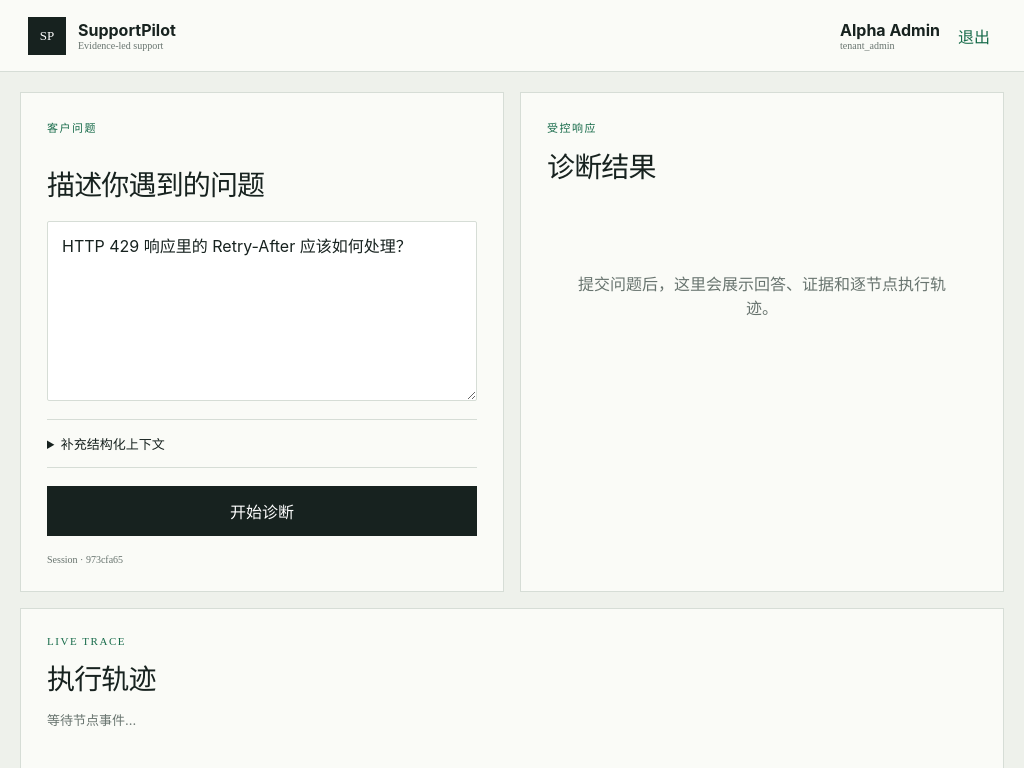
Scenario: SupportPilot console › renders live Agent progress and the final evidence-led answer
Expected: the text "Alpha Admin" is shown, [840,20,940,40]
What coordinates should you click on to do the following:
click the button "开始诊断"
I would click on:
 (262, 511)
Its box is [47,486,477,536].
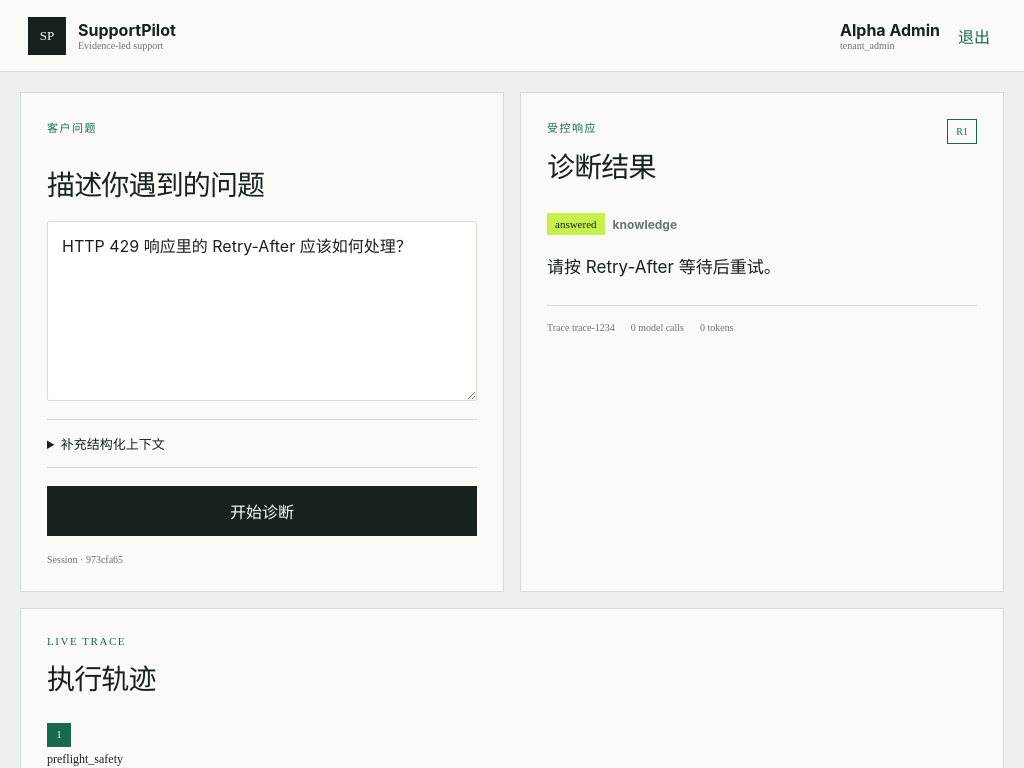
Now the text "请按 Retry-After 等待后重试。" is shown, box [547,257,781,277]
Now the text "preflight_safety" is shown, box [47,752,123,766]
